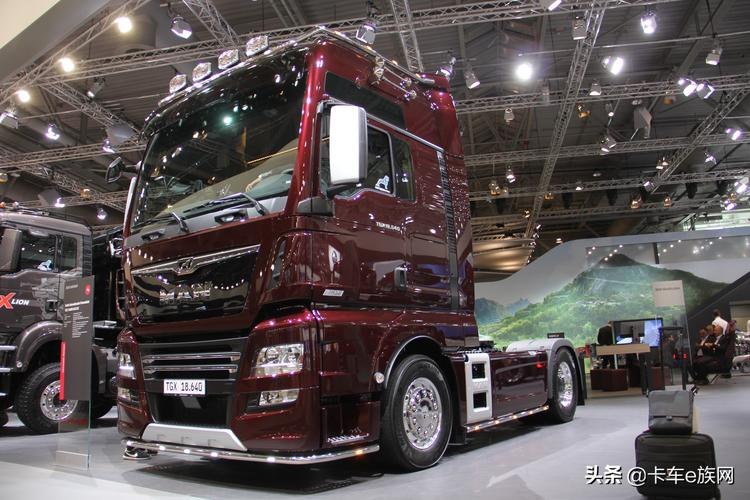卡车: (116, 18, 593, 479)
